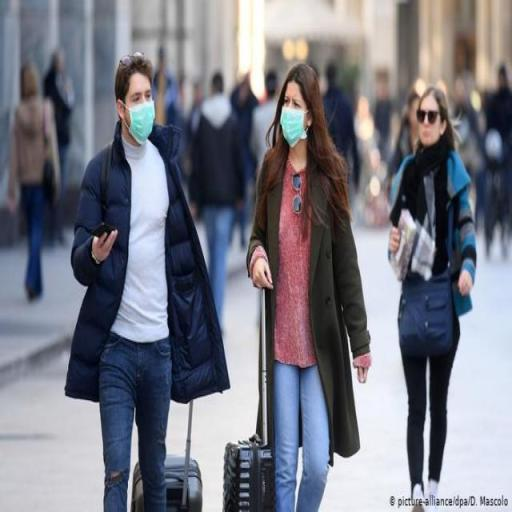person: (248, 67, 374, 512), (73, 57, 173, 511), (388, 86, 478, 512), (191, 70, 248, 338), (9, 64, 60, 303), (41, 48, 72, 247)
